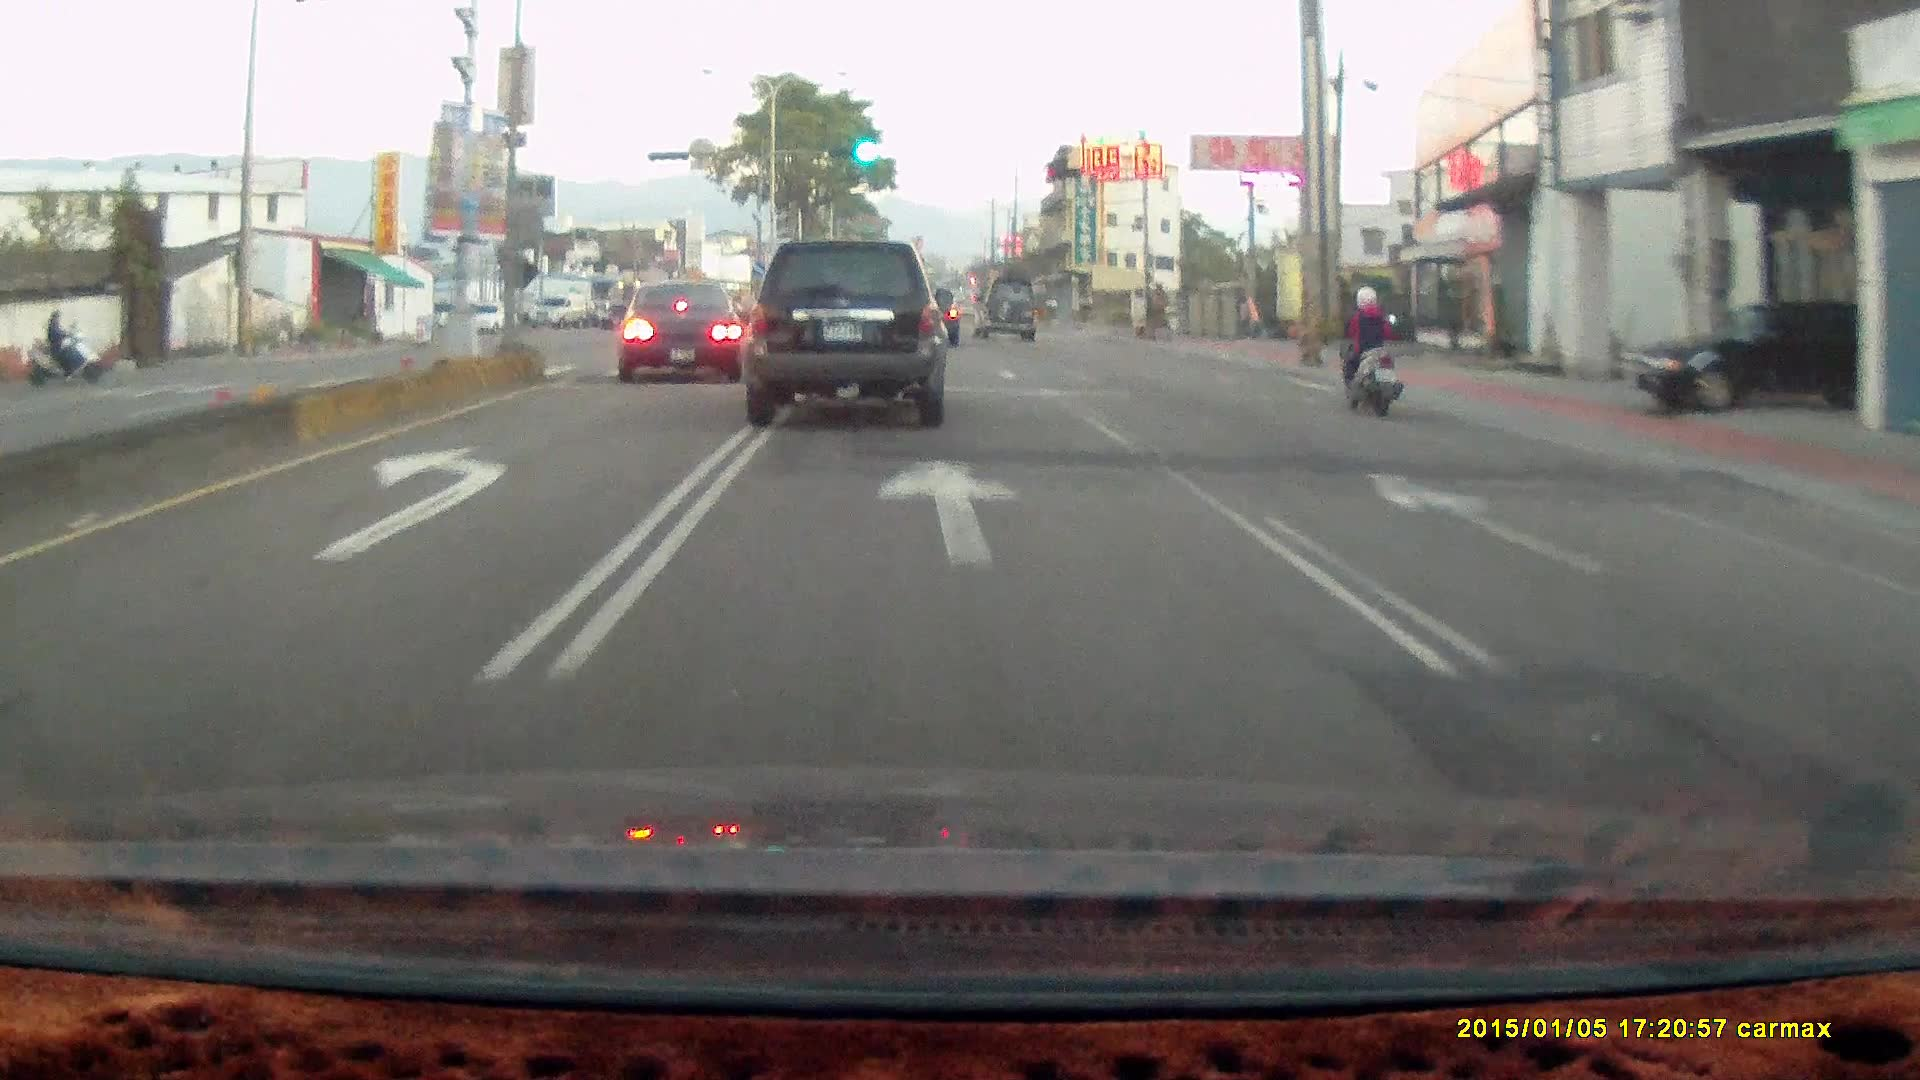rider: (1324, 275, 1418, 428), (1329, 286, 1400, 416), (9, 298, 110, 383)
vehicle: (745, 234, 956, 427), (745, 239, 952, 426), (1621, 296, 1905, 415), (1637, 296, 1855, 416), (615, 279, 754, 383), (616, 278, 748, 382), (973, 277, 1040, 342), (970, 278, 1037, 340), (452, 300, 517, 336), (526, 296, 587, 329), (599, 305, 641, 332)
